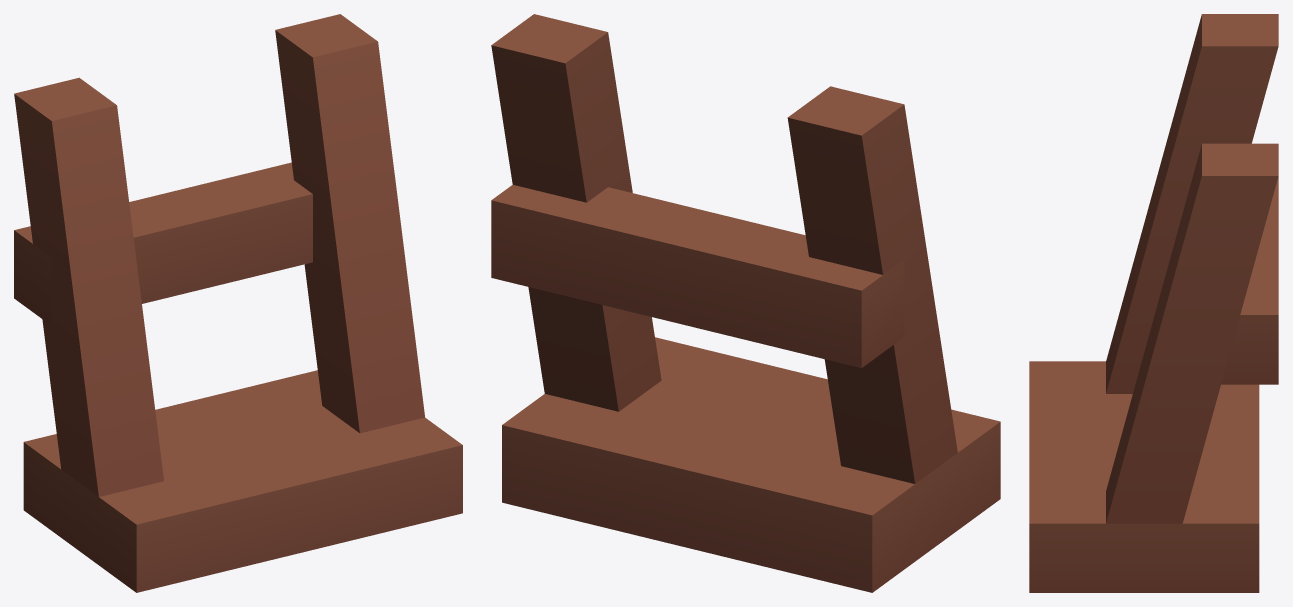
Rendered from rack-elf.glb.
3 renders of one model, left to right at view 1: azimuth 30°, elevation 25°; view 2: azimuth 150°, elevation 25°; view 3: azimuth 270°, elevation 25°, orthographic. The views are drawn at different scales.
Parts seen in each view (by area): view 1: rack-elf; view 2: rack-elf; view 3: rack-elf.
Part boxes in pixels (x1,y1,x2,y2): rack-elf: [14, 14, 462, 592]; rack-elf: [491, 14, 1000, 592]; rack-elf: [1029, 14, 1278, 592].
Size of the model in its own units: 0.2 by 0.24 by 0.13.
